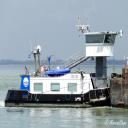tugboat: (5, 25, 124, 111)
